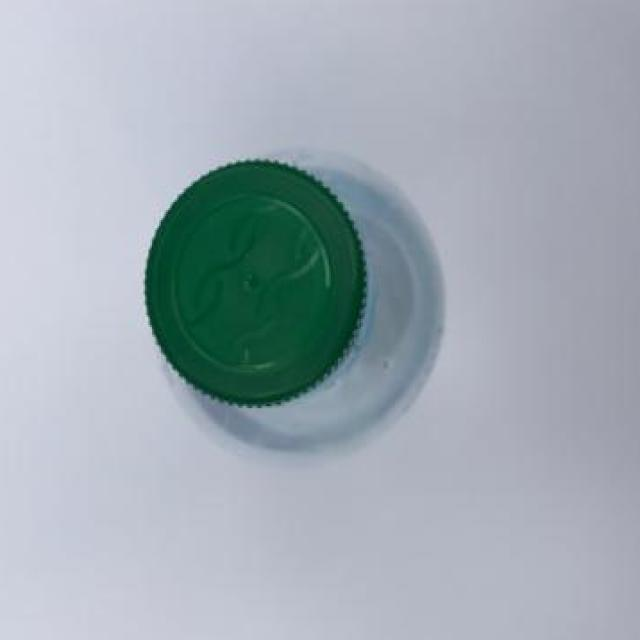organic: (134, 137, 458, 466)
